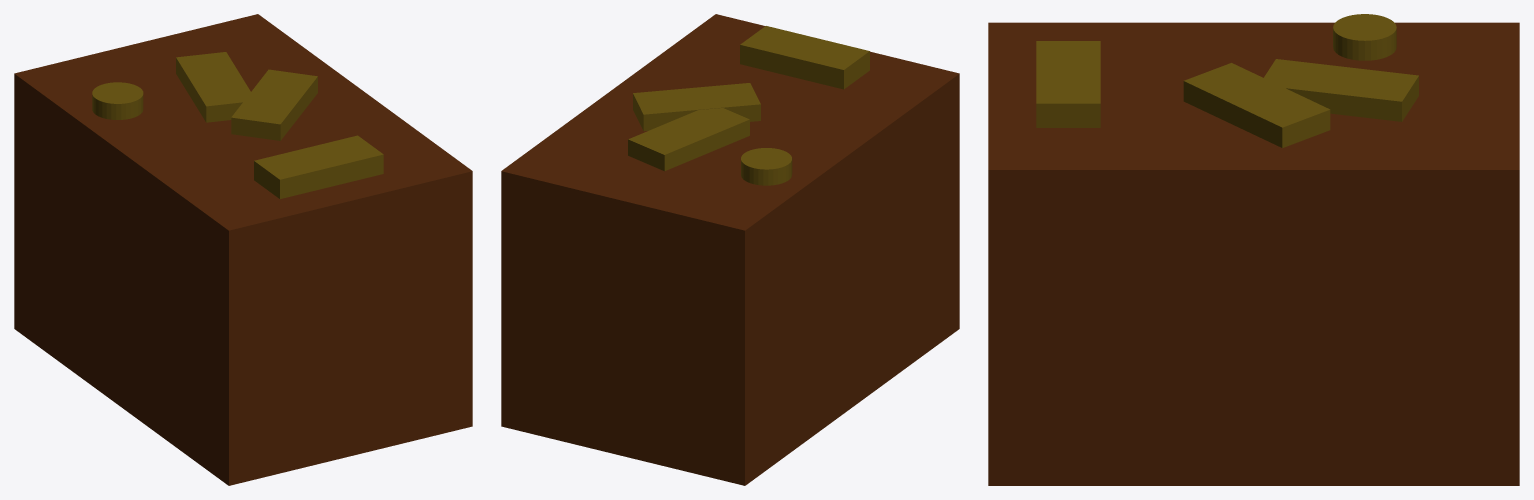
The model's file is workbench.dae.
3 views of the same model, side by side, from view 1: azimuth 30°, elevation 25°; view 2: azimuth 150°, elevation 25°; view 3: azimuth 270°, elevation 25° (orthographic). The views are drawn at different scales.
Parts seen in each view (by area): view 1: Cube, Cube_001, Cube_002, Cube_003, Cylinder; view 2: Cube, Cube_001, Cube_003, Cube_002, Cylinder; view 3: Cube, Cube_002, Cube_003, Cube_001, Cylinder.
Boxes of the visible parts, box(x1,y1,x2,y2) form: Cube: box(14, 14, 472, 485); Cube_001: box(254, 135, 383, 198); Cube_002: box(231, 69, 317, 140); Cube_003: box(176, 52, 250, 122); Cylinder: box(92, 82, 143, 119); Cube: box(501, 14, 959, 485); Cube_001: box(740, 26, 869, 89); Cube_003: box(628, 108, 749, 171); Cube_002: box(633, 83, 760, 131); Cylinder: box(741, 148, 792, 185); Cube: box(988, 22, 1519, 485); Cube_002: box(1183, 63, 1330, 147); Cube_003: box(1264, 59, 1418, 121); Cube_001: box(1036, 41, 1100, 127); Cylinder: box(1333, 14, 1396, 60).
Size of the model in its own units: 2 by 3.05 by 2.15.
